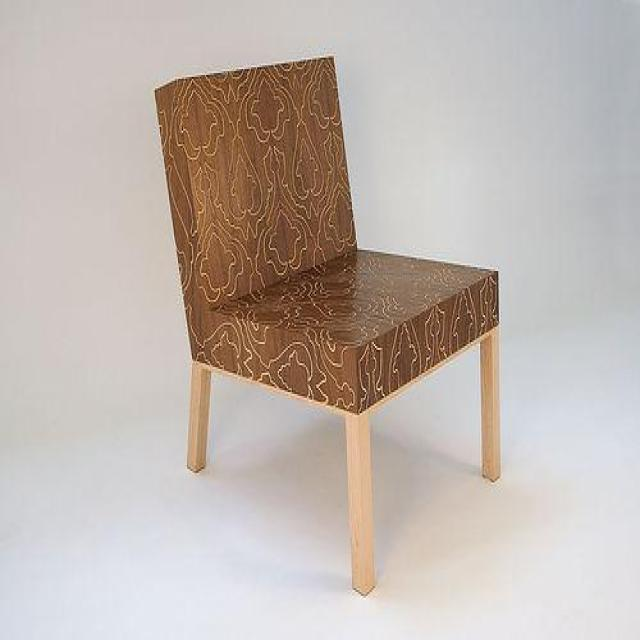chair: (154, 53, 504, 597)
